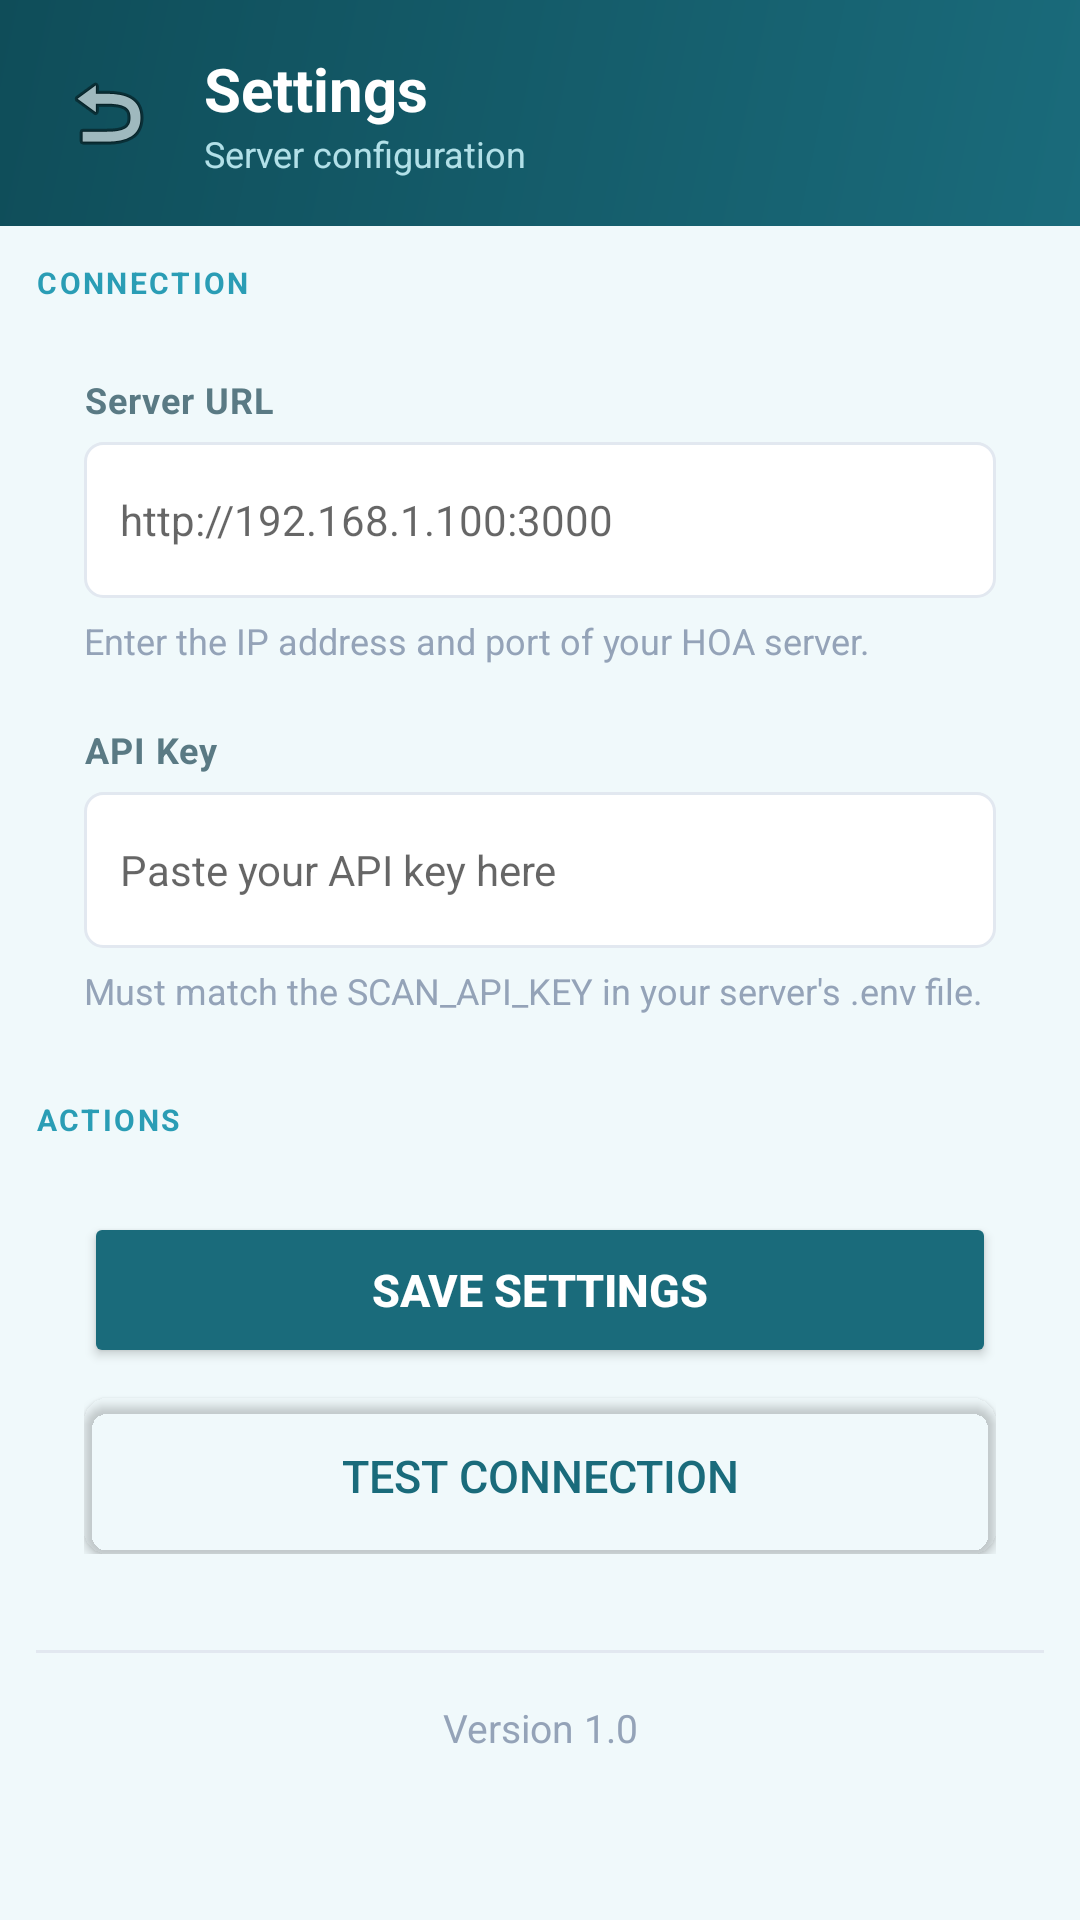

Icon click points for this 1080w x 1920h phone screenshot, format (x,y):
Back: (109,114)
